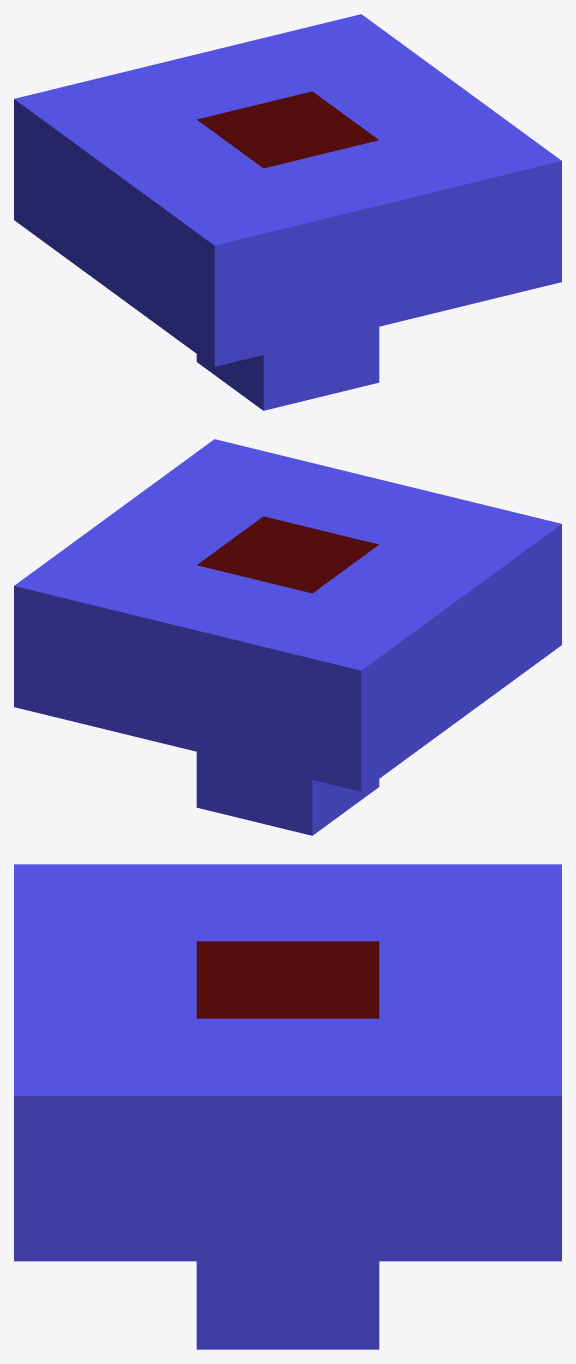
The model's file is gm_floor_1.cube.obj.
3 views of the same model, one above another, from view 1: azimuth 30°, elevation 25°; view 2: azimuth 150°, elevation 25°; view 3: azimuth 270°, elevation 25° (orthographic). The views are drawn at different scales.
Bounding box in the file's own units: 3 × 2 × 3.
1 material, 1 textured.
